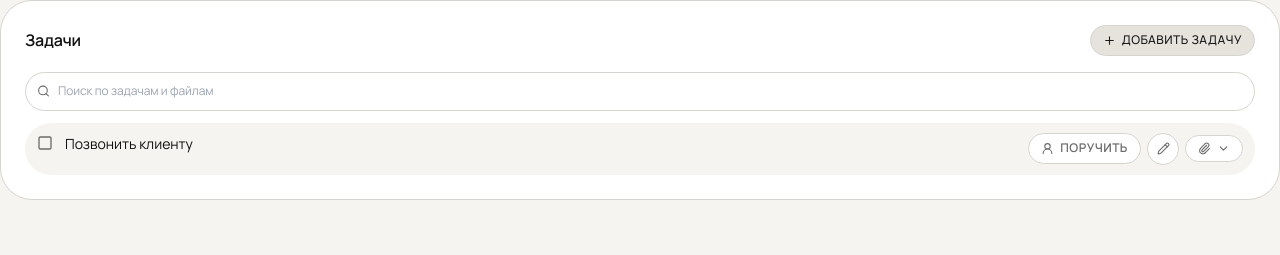
TasksTab — права на делегирование › руководитель видит кнопку «Поручить» и раскрывает выбор
Step 1. Click the button titled "Поручить задачу сотруднику" → {"x": 1085, "y": 149}, box 1028,133 -> 1141,164
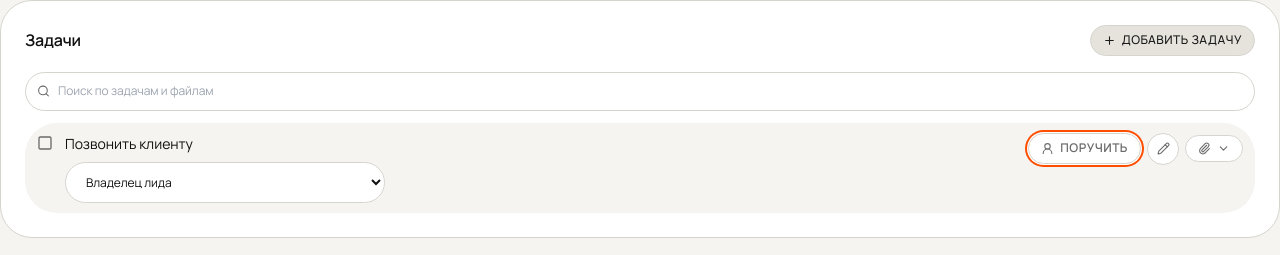
Result: the dropdown named "Кому поручить задачу" is shown at 65,162 -> 385,203
